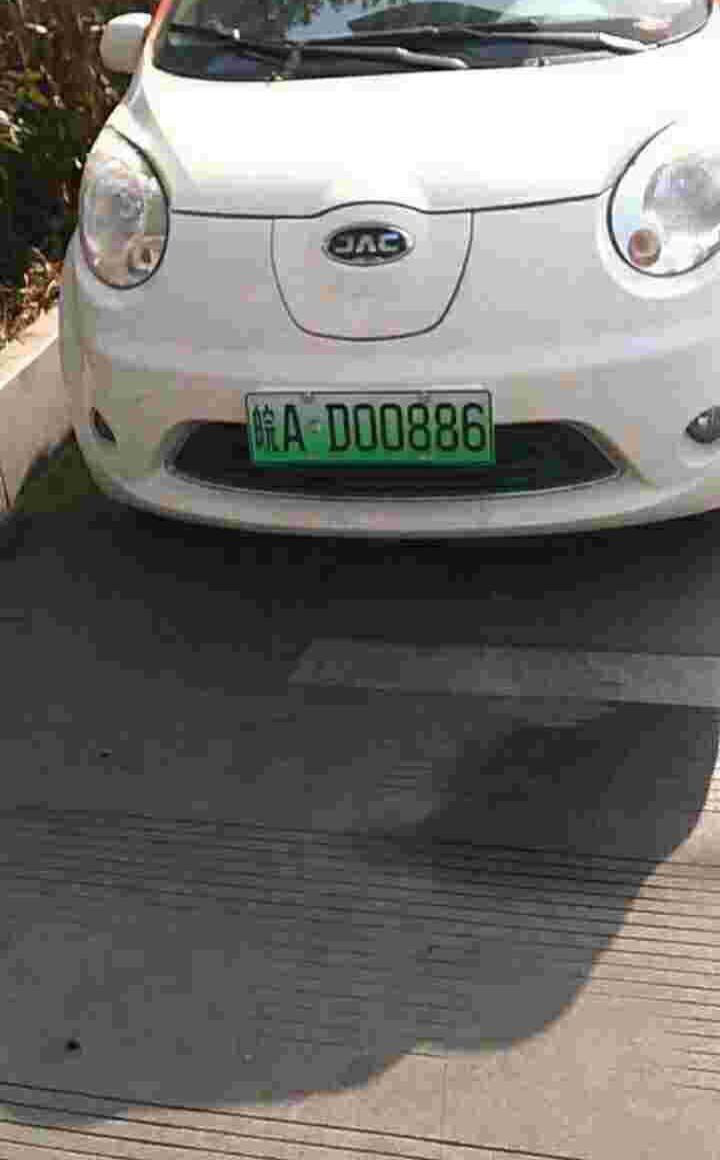car: (244, 380, 499, 479)
